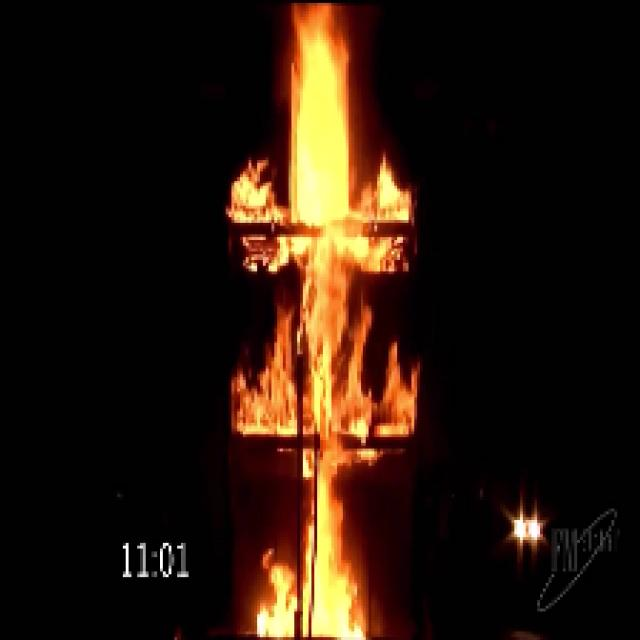fire: (246, 0, 397, 629)
